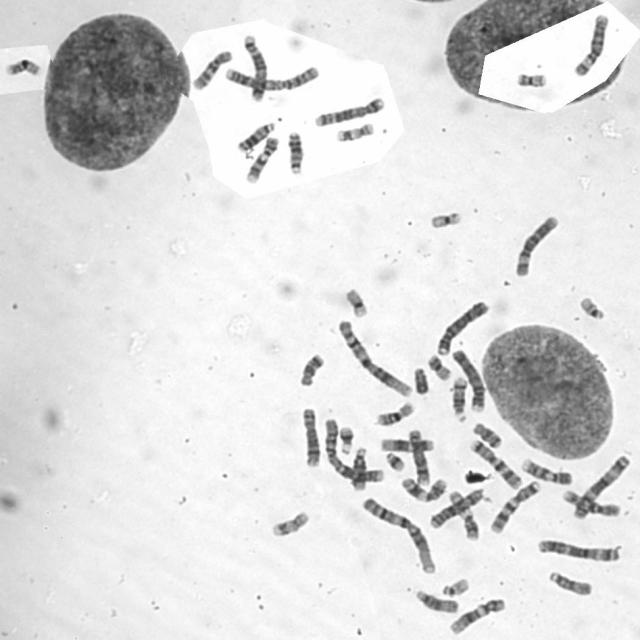A1: (358, 494, 437, 576), (336, 317, 414, 399)
A2: (319, 416, 385, 485), (219, 62, 322, 92)
A3: (570, 452, 631, 519), (534, 536, 622, 563)
B4: (434, 298, 491, 356), (448, 347, 487, 414)
B5: (312, 94, 386, 128), (240, 31, 269, 103)
C10: (188, 47, 234, 93), (560, 487, 621, 518)
C11: (447, 488, 480, 541), (398, 474, 447, 503)
C12: (447, 595, 506, 636), (376, 435, 436, 454)
C6: (511, 212, 560, 278), (570, 11, 609, 77)
C7: (487, 478, 542, 534), (467, 438, 522, 490)
C8: (298, 404, 322, 469), (406, 427, 431, 487)
C9: (242, 134, 280, 185), (520, 456, 573, 486)
D13: (234, 119, 277, 153), (284, 128, 305, 176)
D14: (347, 444, 369, 492), (448, 375, 469, 424)
D15: (546, 568, 593, 597), (414, 587, 459, 614)
E16: (372, 399, 416, 428), (2, 55, 43, 78)
E17: (268, 508, 311, 538), (334, 120, 374, 142)
E18: (296, 350, 326, 388), (471, 420, 504, 449)
F19: (343, 285, 369, 319), (426, 207, 463, 229)
F20: (424, 352, 454, 381), (518, 71, 546, 88)
G21: (337, 423, 356, 455), (383, 449, 408, 472)
G22: (576, 292, 607, 322), (439, 575, 471, 597)
X: (427, 484, 486, 530)
Y: (411, 364, 430, 397)
